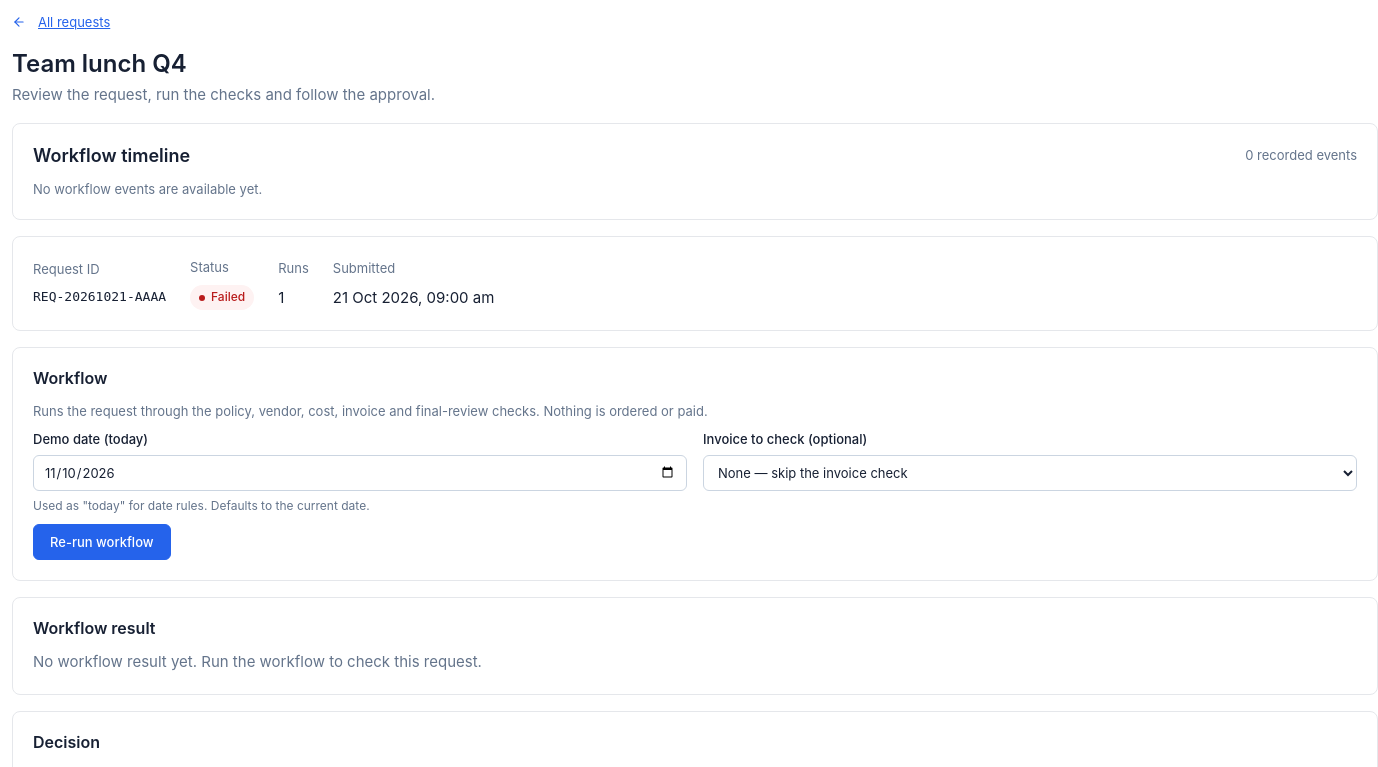
AdminRequestDetailPage › shows the server's 409 message when the ticket is not runnable
This screenshot has width=1378, height=767.
Click the button "Re-run workflow": [102, 542] box [33,524,171,560]
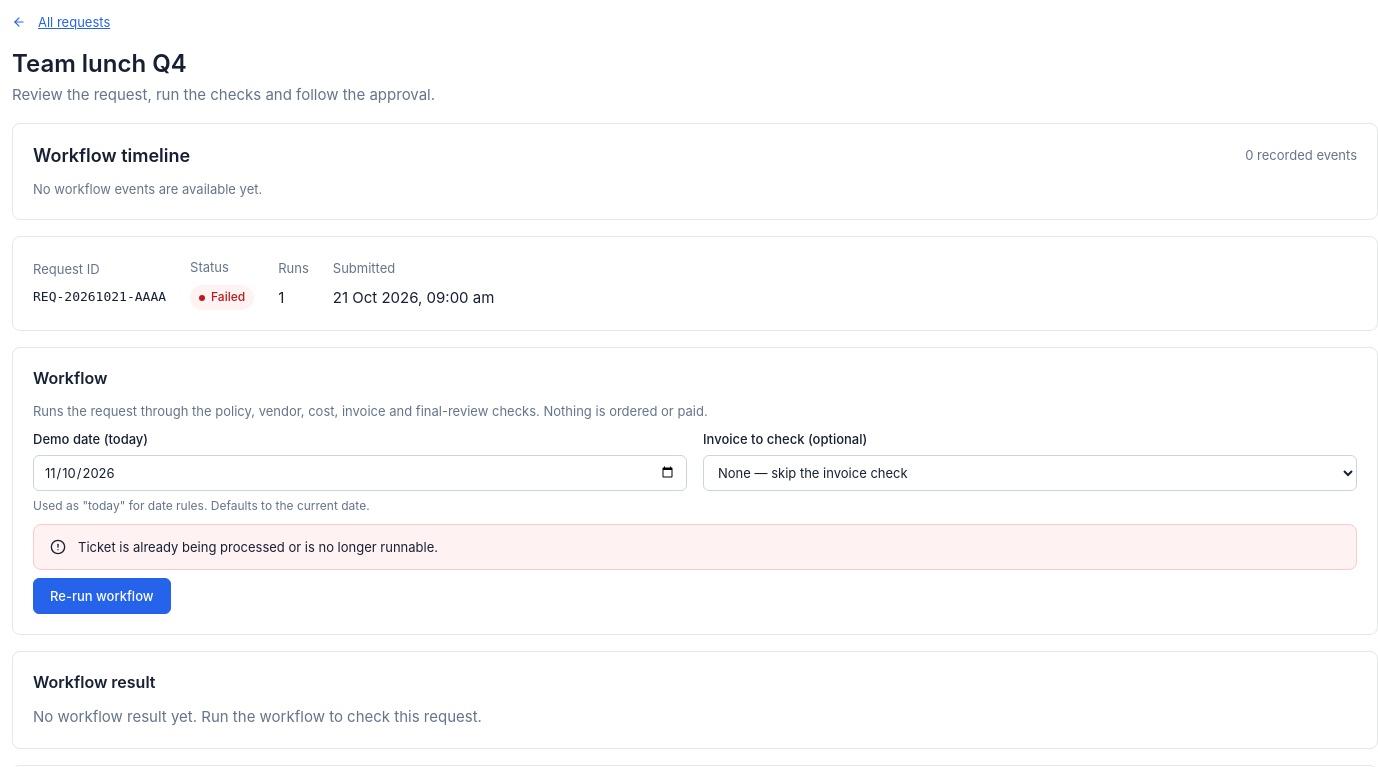
Check: the text "Ticket is already being processed or is no longer runnable." is shown, box [78,537,438,557]
